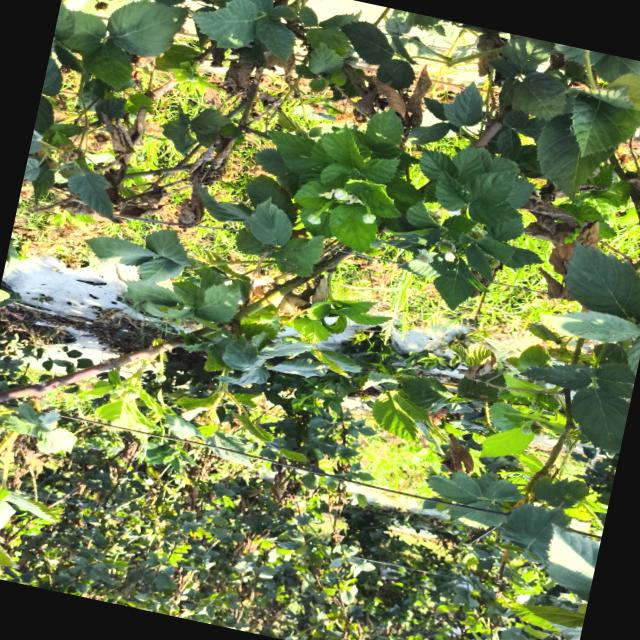boton: (333, 188, 348, 200), (306, 214, 321, 225), (362, 213, 375, 223)
